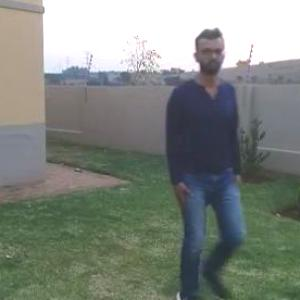follow: (161, 24, 241, 299)
